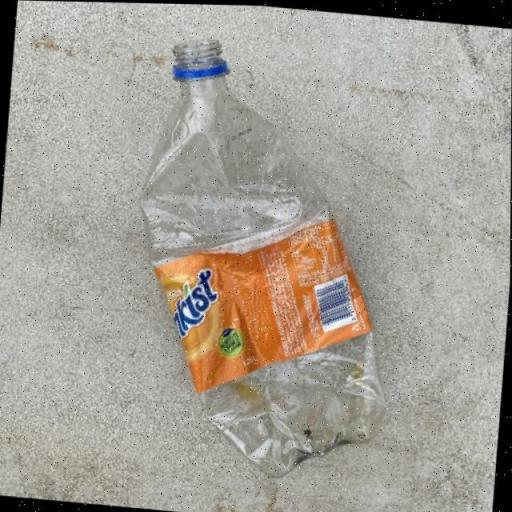plastic: (119, 30, 413, 484)
